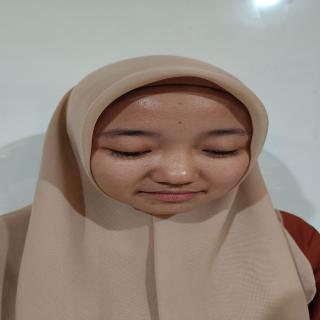Sedih: (84, 80, 266, 218)
